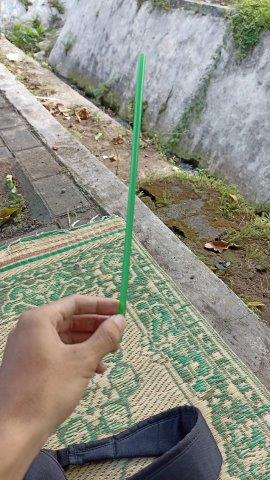sedotan: (119, 55, 145, 341)
